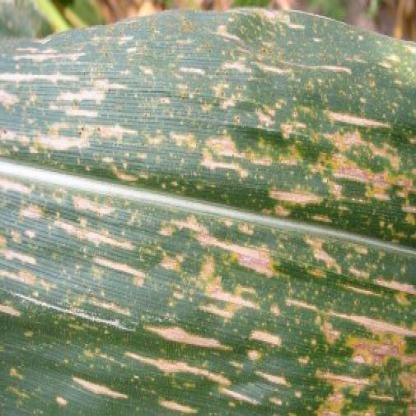corn leaf blight: (3, 19, 415, 410)
